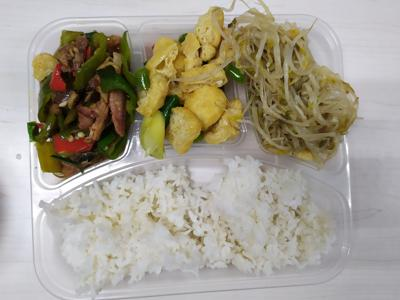cqj: (30, 23, 145, 174)
rice: (48, 176, 357, 284)
